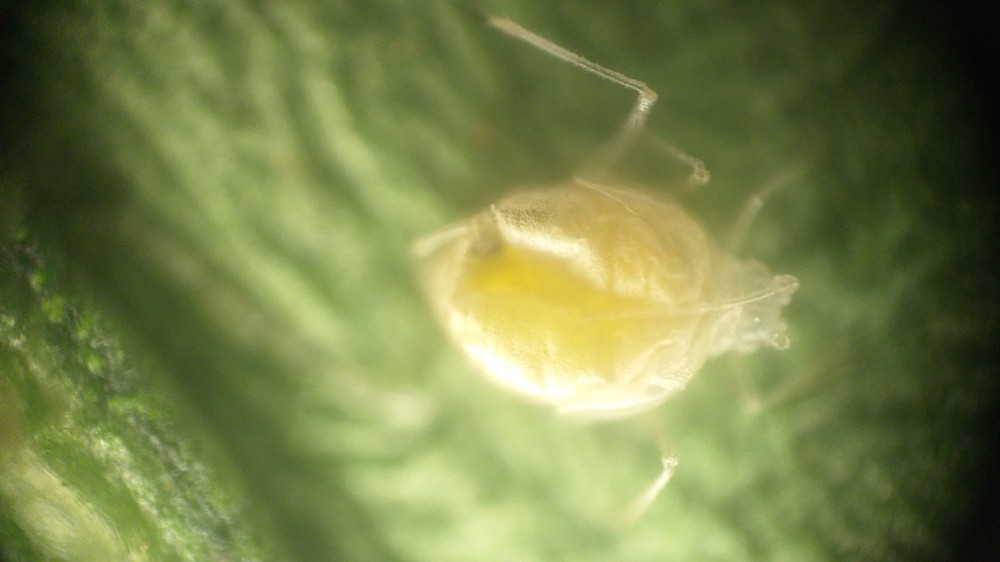Pulgon: (383, 17, 850, 515)
